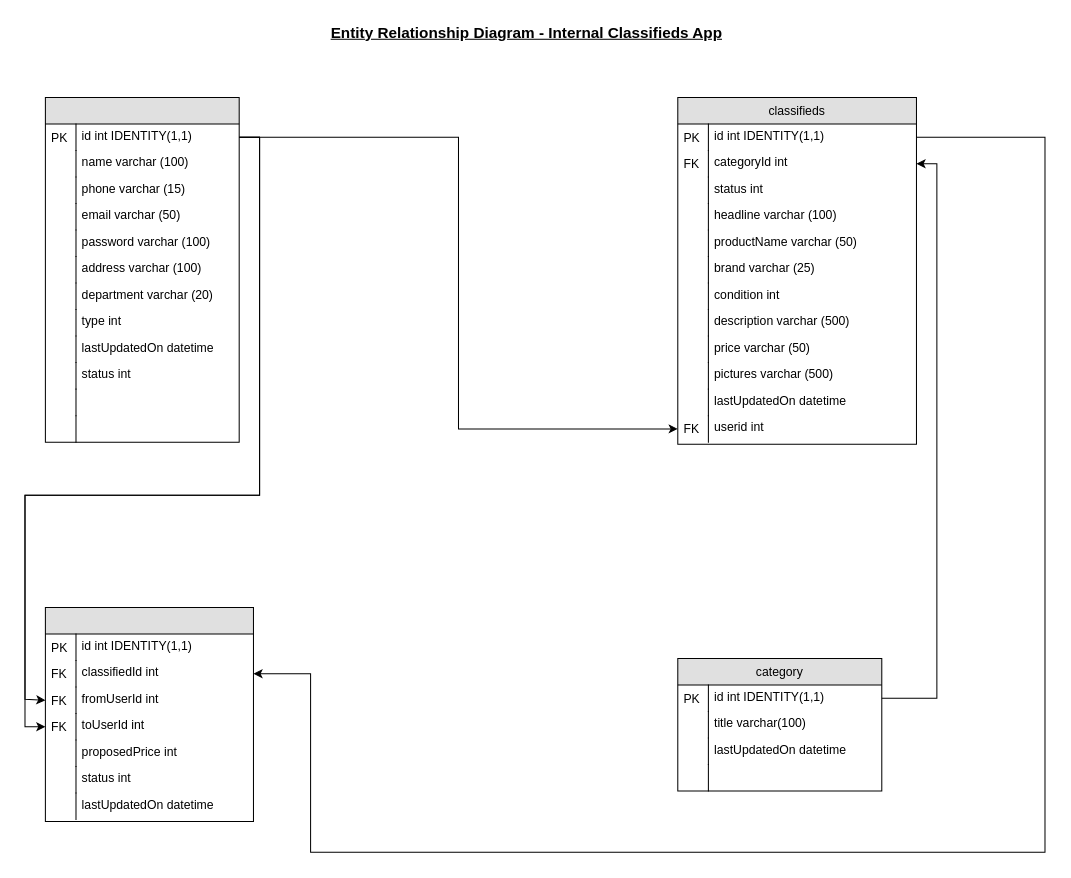
This 1071x878 diagram has some shape labels left out. Each missing label, with the box of its shape:
order: (44, 606, 253, 822)
user: (44, 96, 239, 442)
